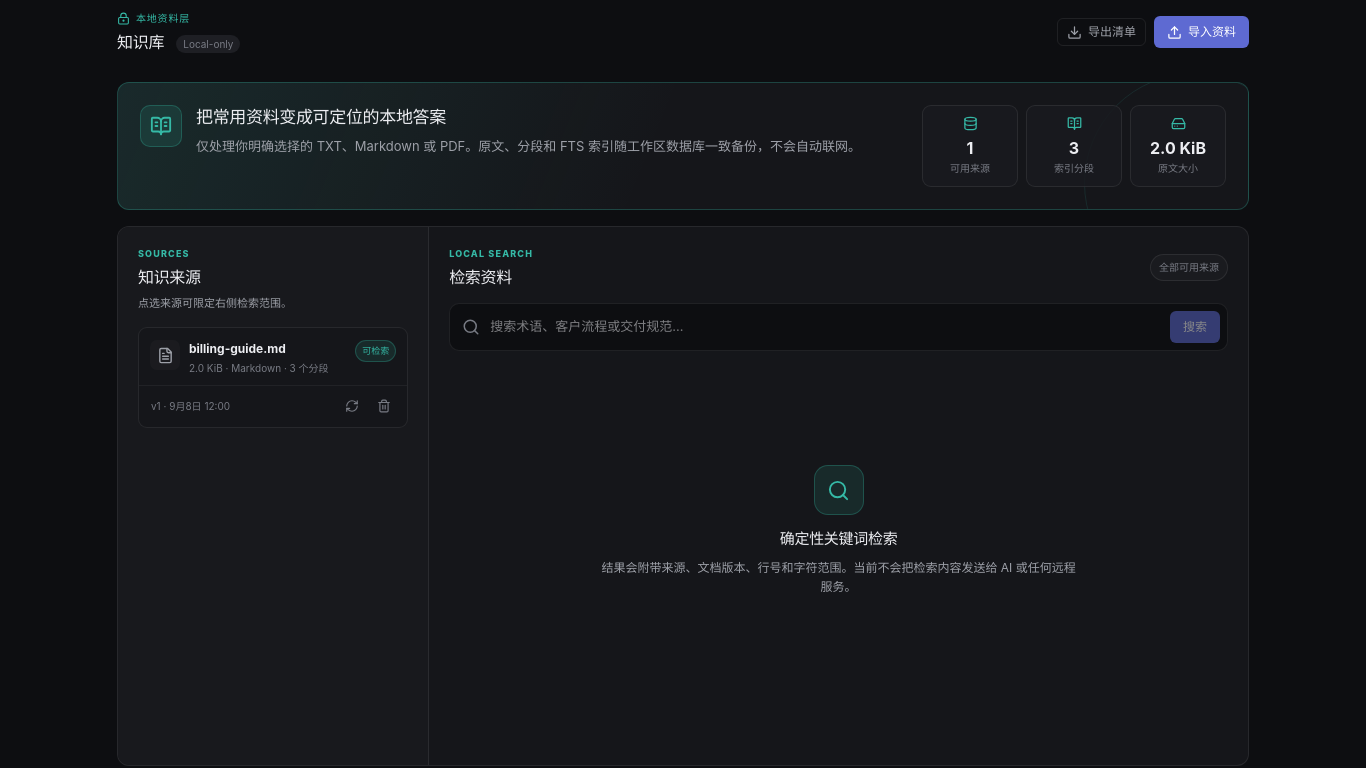
Scenario: KnowledgeBasePage › filters deterministic local search and renders source positions with safe highlights
Check: the text "billing-guide.md" is shown, box [189, 341, 286, 356]
Check: the text "3" is shown, box [1069, 136, 1079, 160]
Click the button with aria-label "筛选来源 billing-guide.md" at (273, 357), box [139, 328, 407, 385]
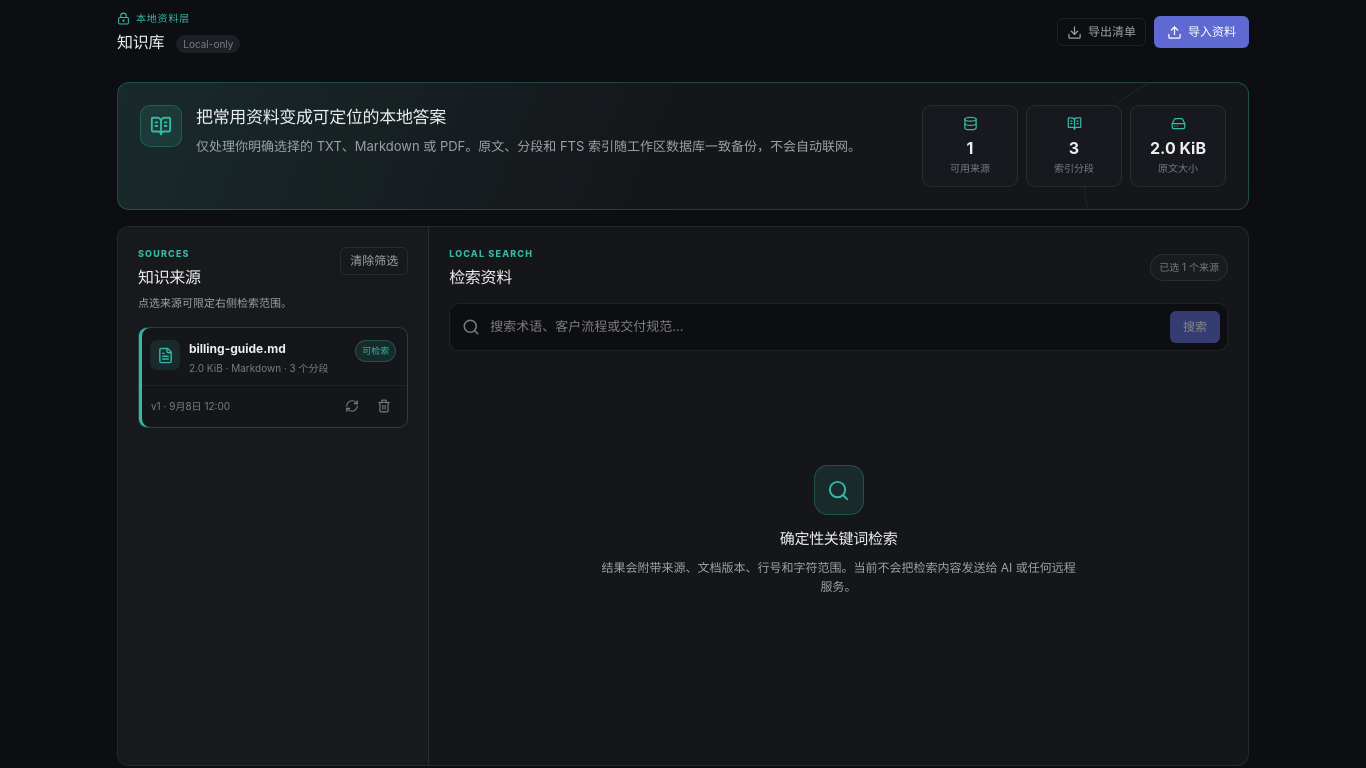
Type "发票" into the field named "搜索知识库" at (825, 327), box [490, 317, 1160, 336]
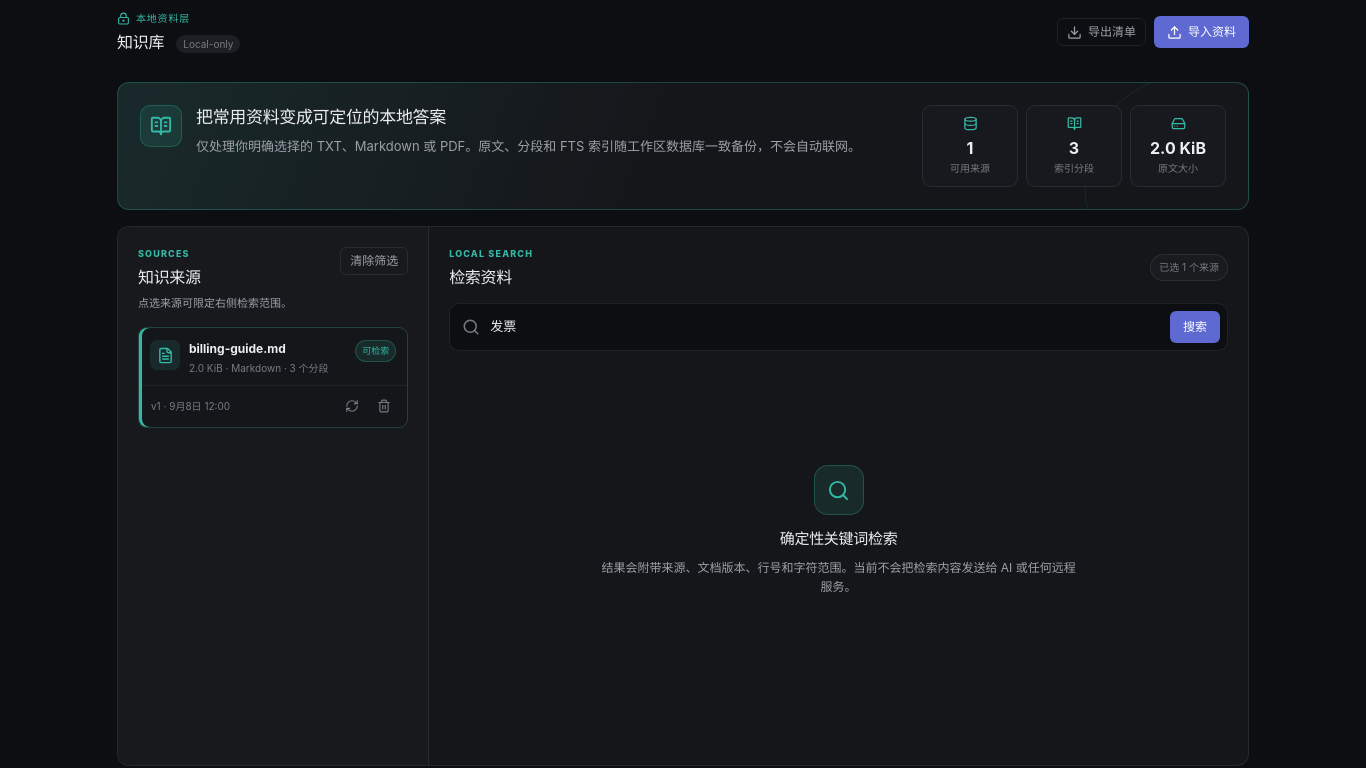
Click the button "搜索" at (1195, 326), box [1170, 310, 1220, 342]
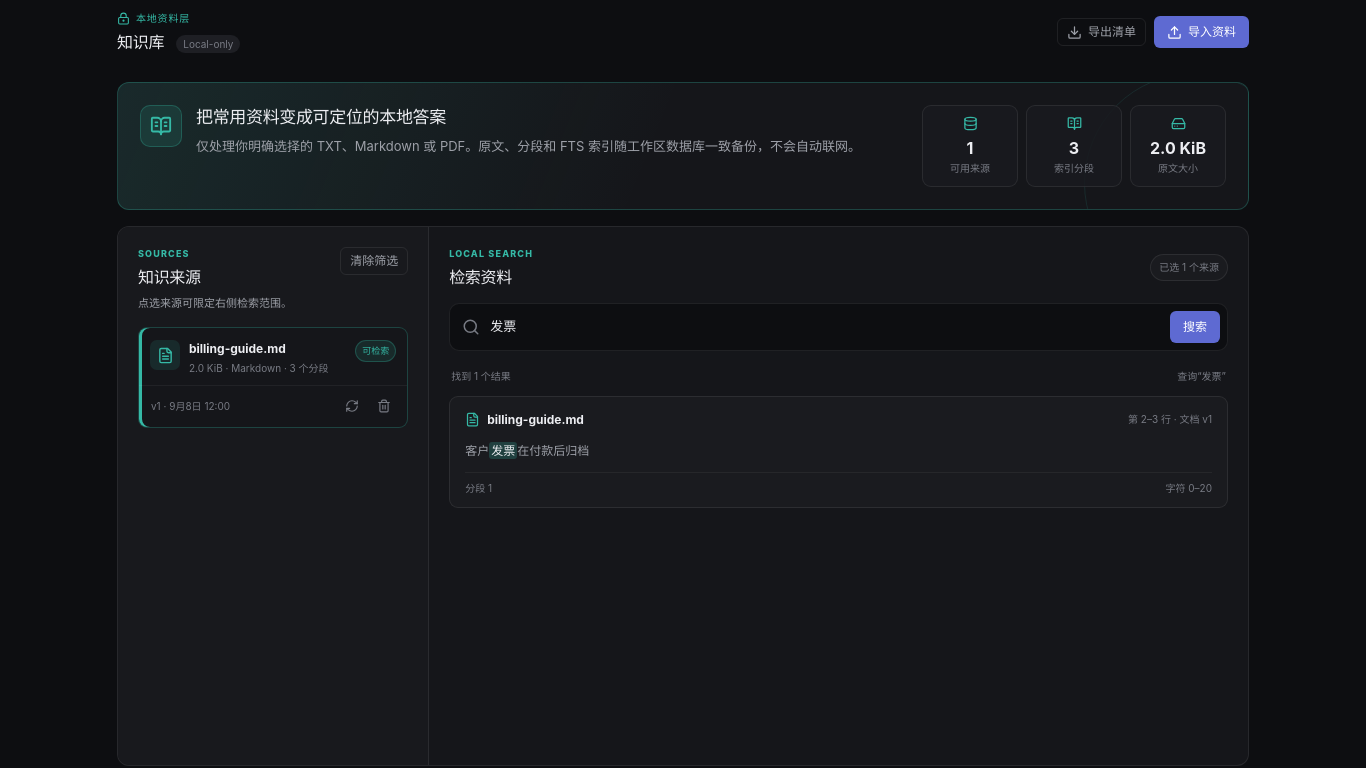
Check: the text "发票" is shown, box [489, 442, 517, 458]
Check: the text "第 2–3 行 · 文档 v1" is shown, box [1128, 412, 1212, 427]
Check: the text "当前不会把检索内容发送给 AI 或任何远程服务。" is gone
